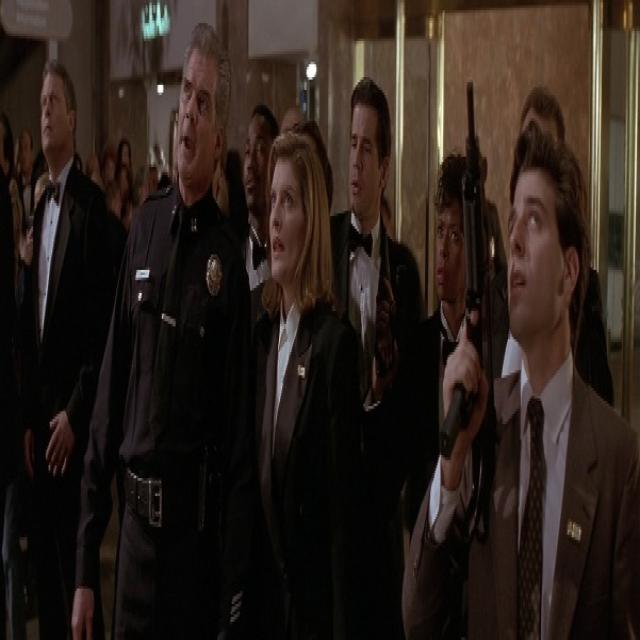rifle: (441, 79, 503, 527)
